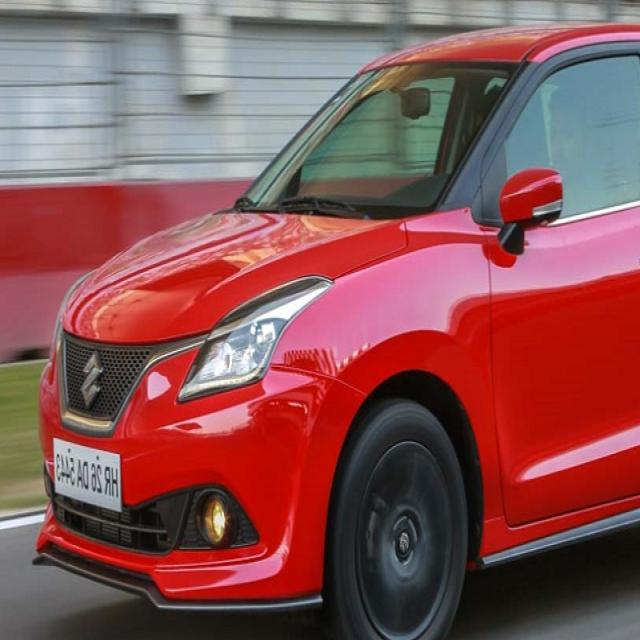number-plate: (31, 438, 129, 521)
